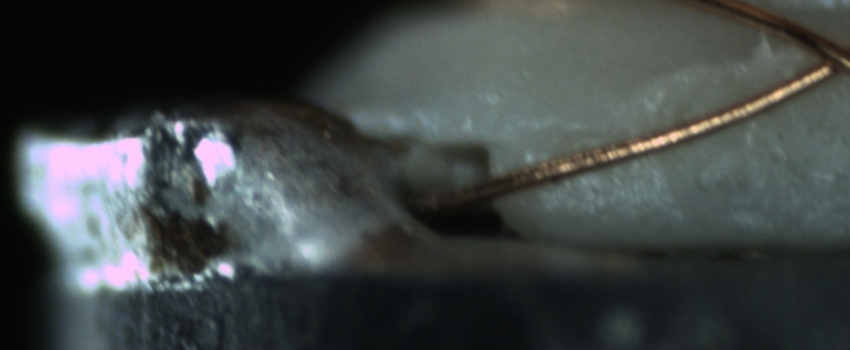CL: (793, 27, 850, 89)
DL: (522, 106, 657, 166)
